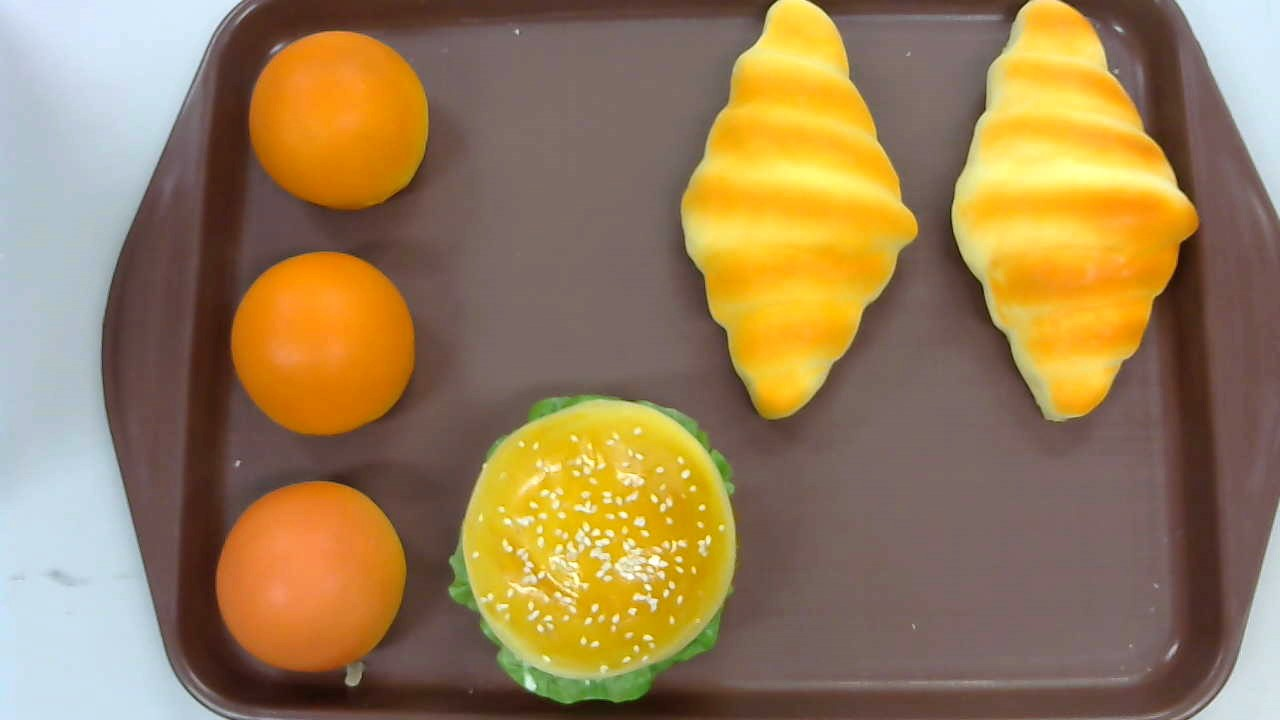bun: (216, 480, 407, 672), (228, 251, 413, 439), (247, 31, 428, 211)
croissant: (950, 1, 1200, 422), (681, 1, 918, 421)
hamburger: (448, 393, 738, 704)
